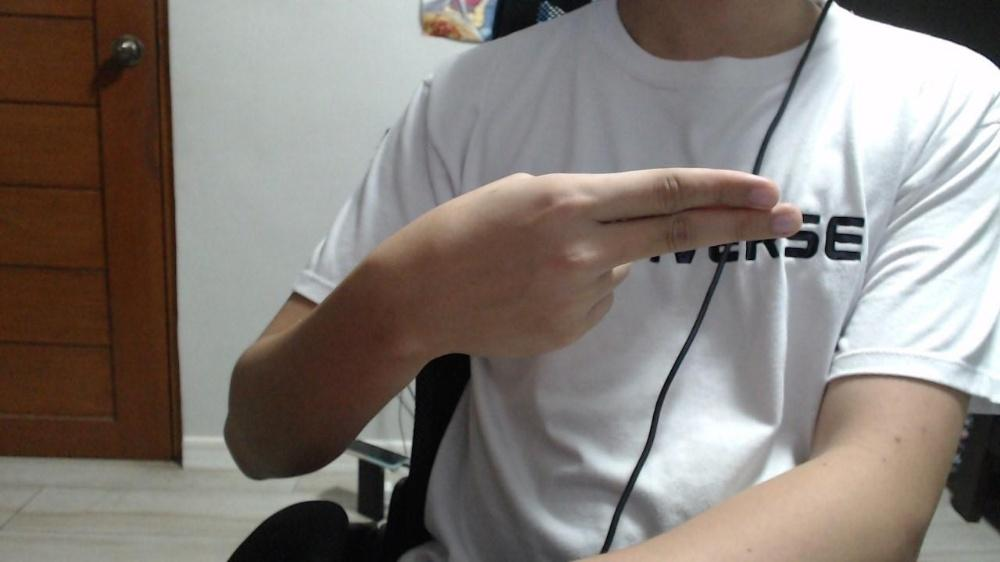h: (447, 169, 803, 360)
